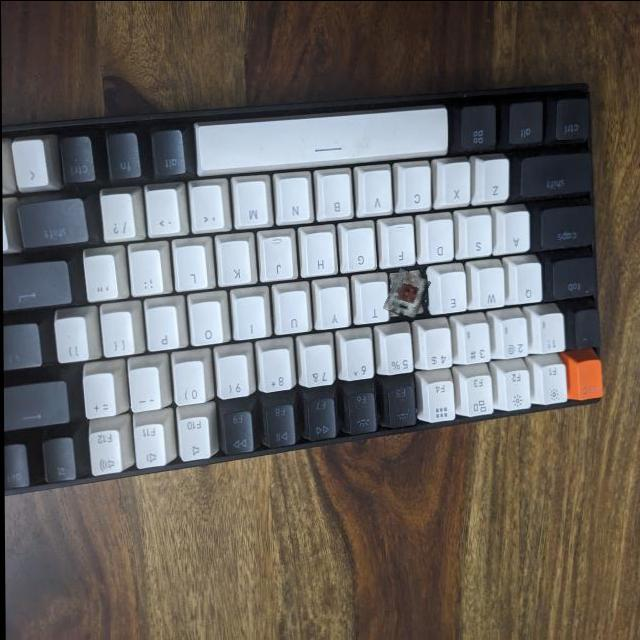key-switch: (385, 270, 426, 319)
